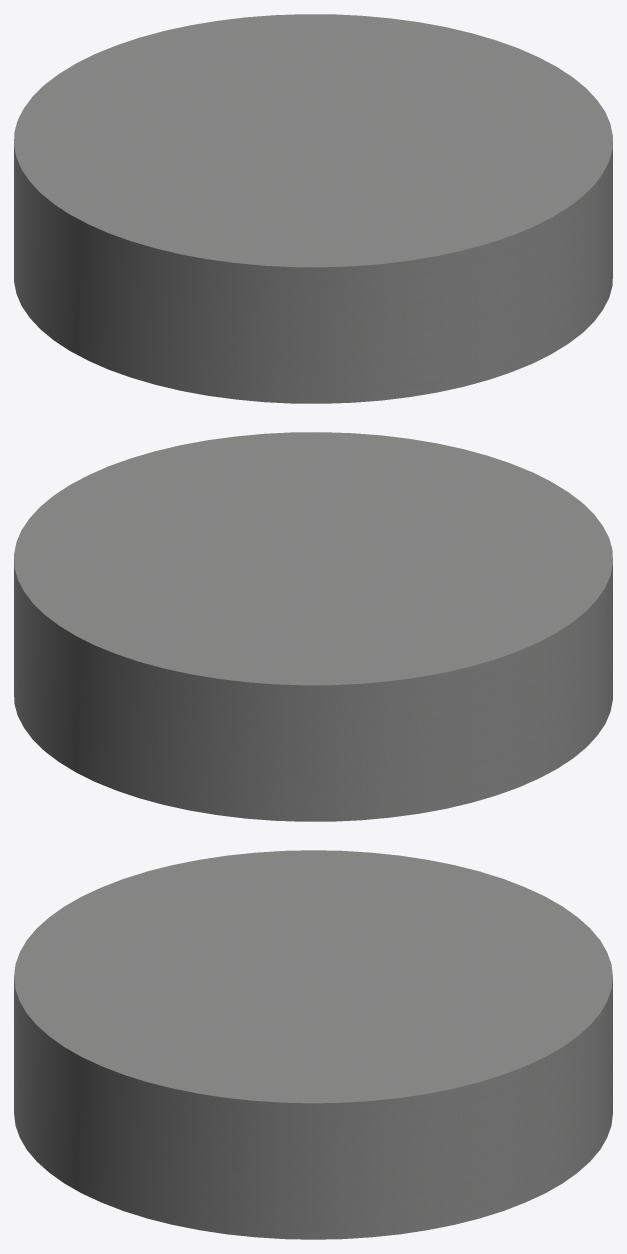
Rendered from magnet.glb.
3 renders of one model, top to bottom at view 1: azimuth 30°, elevation 25°; view 2: azimuth 150°, elevation 25°; view 3: azimuth 270°, elevation 25°, orthographic.
Parts seen in each view (by area): view 1: model_0; view 2: model_0; view 3: model_0.
Part boxes in pixels (bbox=[...]): model_0: bbox=[14, 14, 612, 403]; model_0: bbox=[14, 432, 612, 821]; model_0: bbox=[14, 850, 612, 1239].
Size of the model in its own units: 6.03 by 1.52 by 6.03.
1 material, 1 textured.
